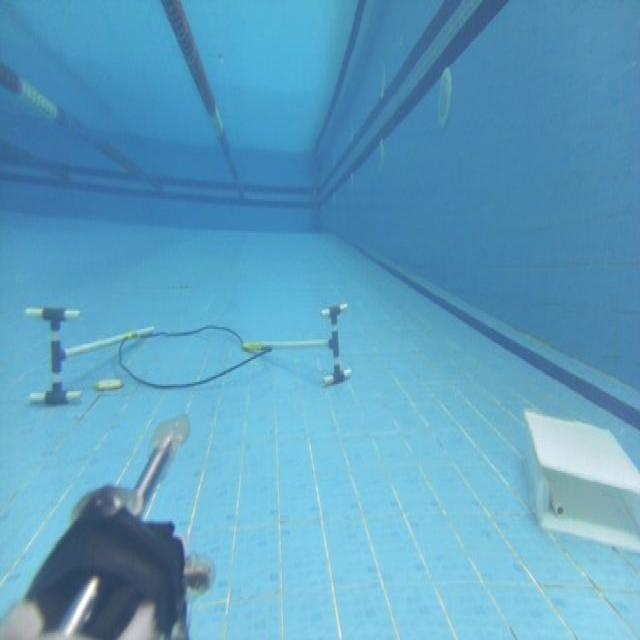Cuboid: (522, 404, 639, 554)
